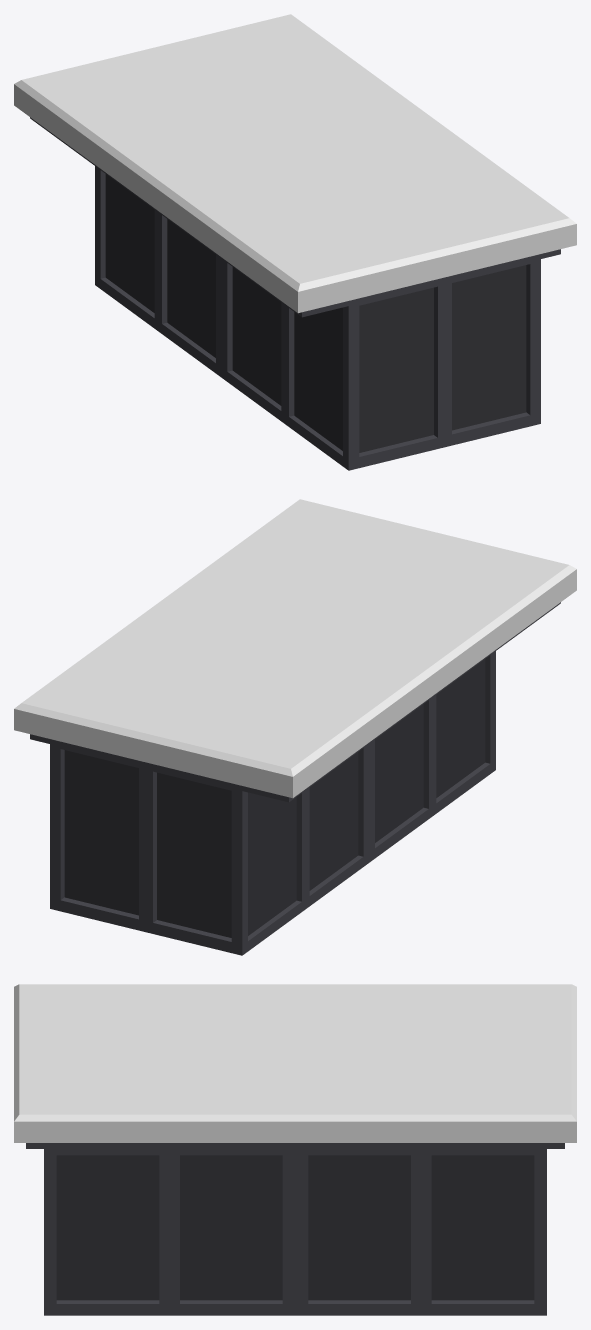
Rendered from kitchen island textured.fbx.
3 views of the same model, one above another, from view 1: azimuth 30°, elevation 25°; view 2: azimuth 150°, elevation 25°; view 3: azimuth 270°, elevation 25° (orthographic).
Visible parts, largest first — view 1: Island; view 2: Island; view 3: Island.
Part boxes in pixels (box(x1,y1,x2,y2)): Island: box(14, 14, 576, 470); Island: box(14, 499, 576, 955); Island: box(14, 984, 576, 1315).
Size of the model in its own units: 2176 by 1572 by 3837.
